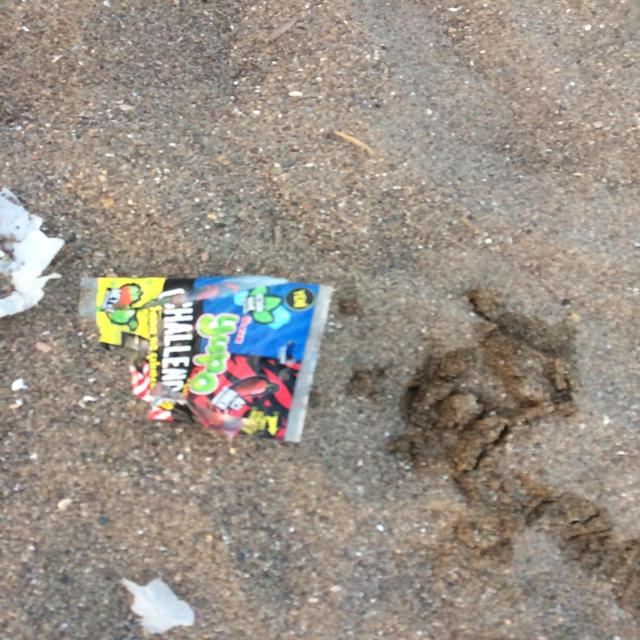litter: (77, 274, 334, 445)
